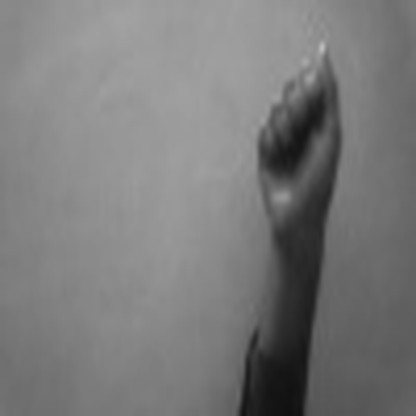a: (245, 37, 361, 237)
